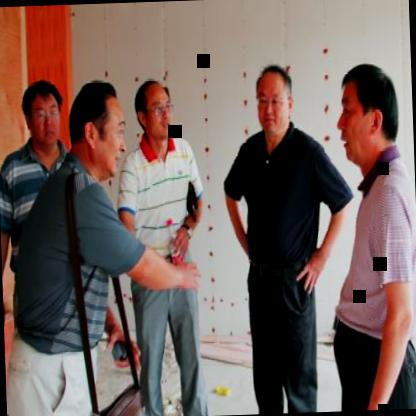head: (332, 58, 405, 176), (68, 76, 128, 178), (252, 60, 298, 142), (20, 76, 64, 156), (132, 78, 174, 151)
